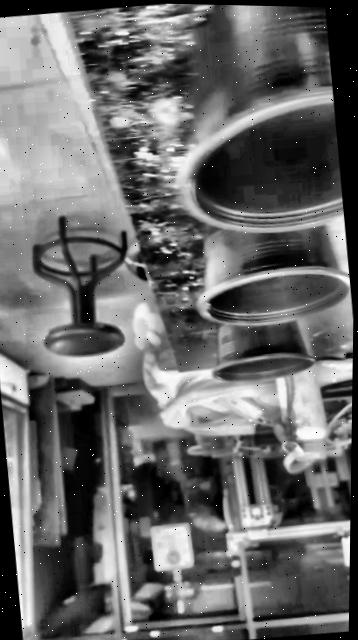pot: (179, 81, 357, 331), (180, 5, 344, 230), (198, 226, 350, 326), (213, 321, 314, 381)
